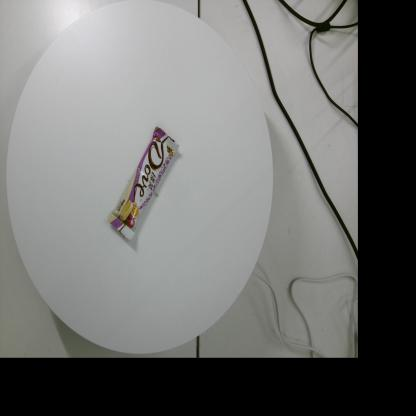Chocolate: (107, 126, 180, 241)
